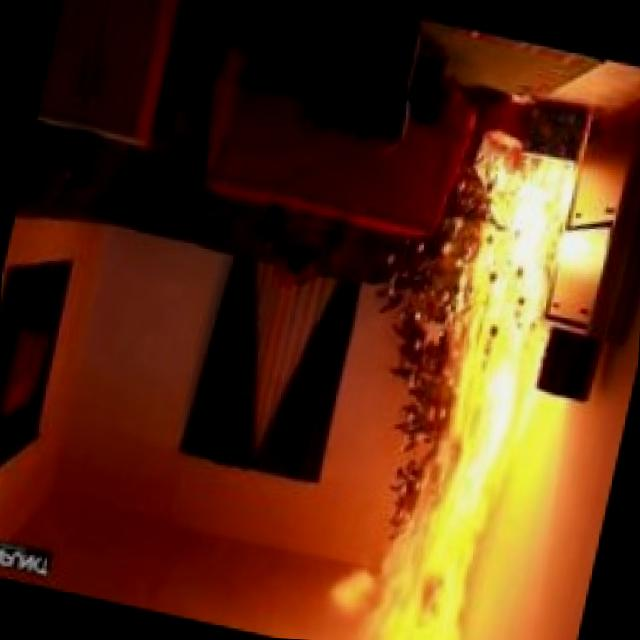fire: (293, 99, 640, 640)
